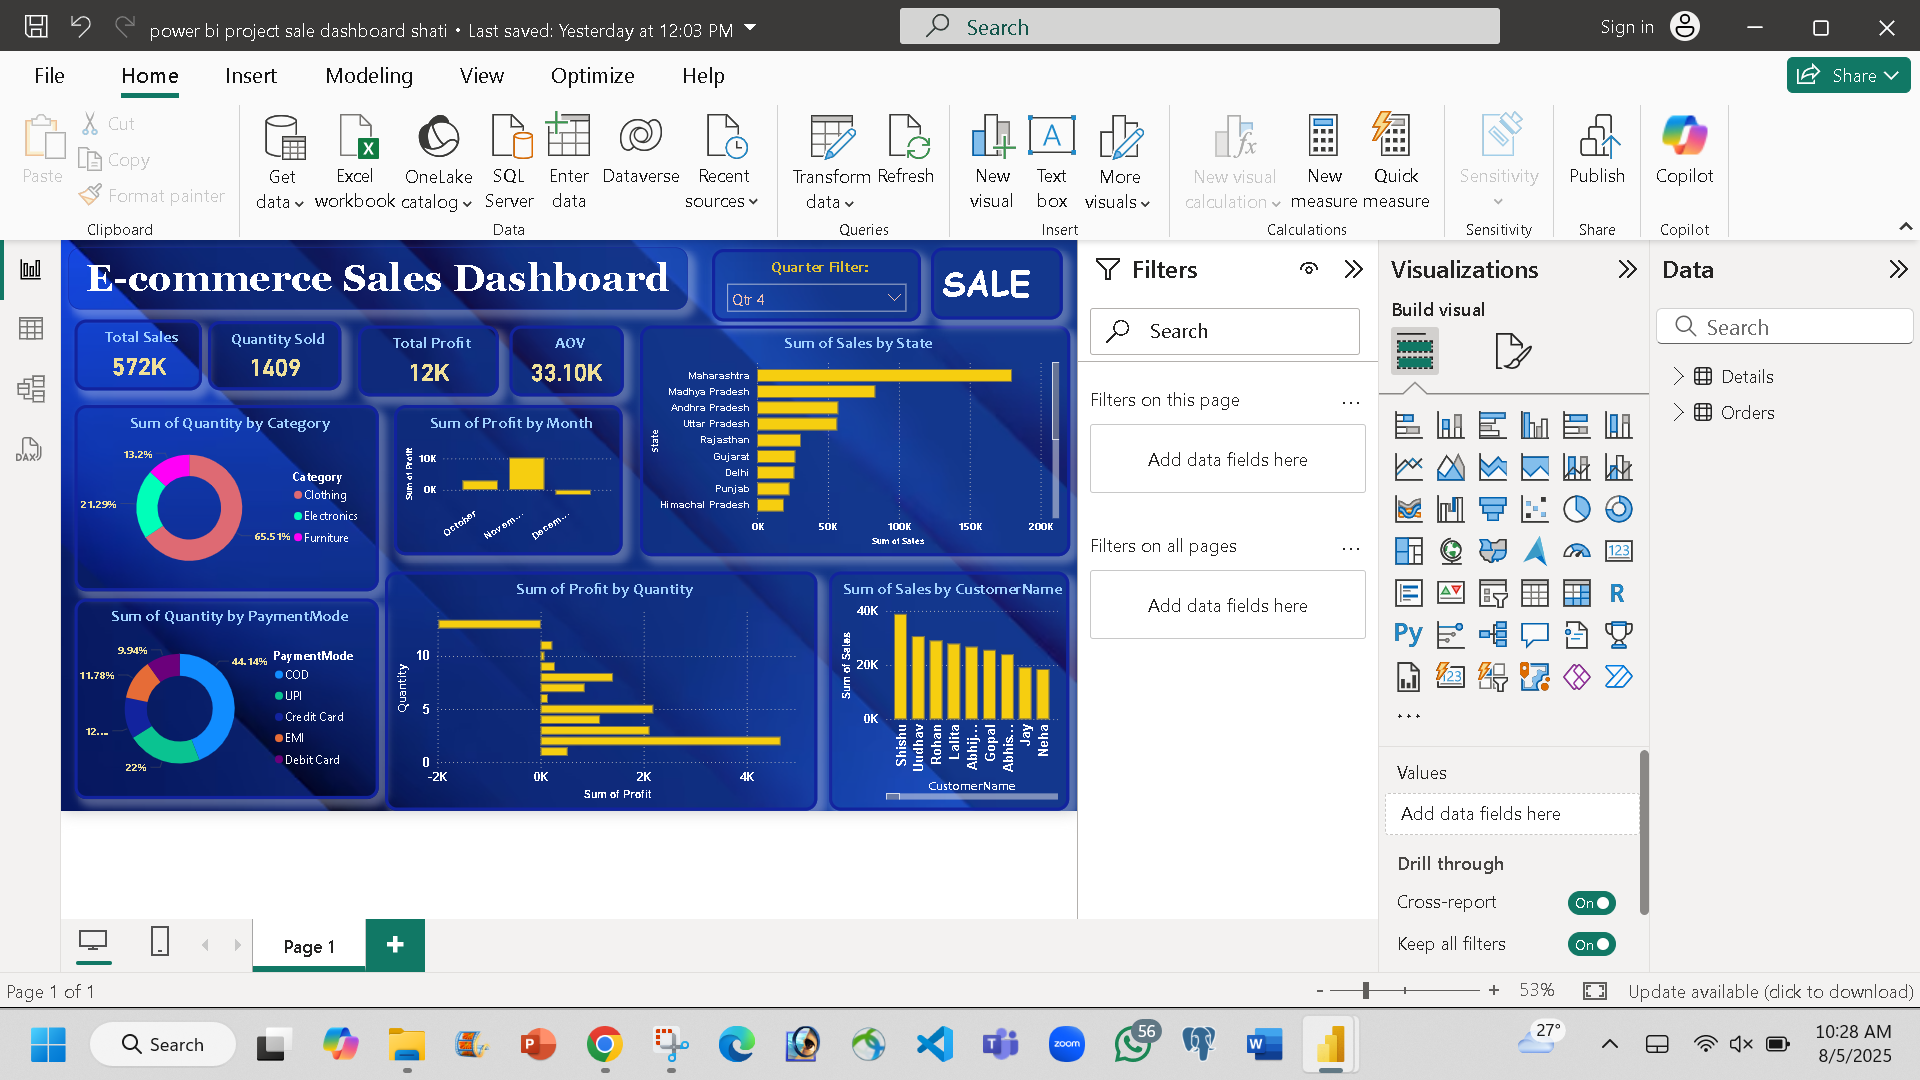

The dashboard page shown, as its layout file describes it:
{"tool":"powerbi","page":{"name":"Page 1","canvas":[1280,720],"ordinal":0},"visuals":[{"type":"textbox","box":[8.8,8.8,780.1,77.8],"z":0},{"type":"card","title":"Total Sales","fields":{"Values":["Details.Sales"]},"box":[16.5,100.2,160.5,89.5],"z":1000},{"type":"card","title":"Quantity Sold","fields":{"Values":["Details.Quantity"]},"box":[184.8,102.1,168.3,87.5],"z":2000},{"type":"card","title":"Total Profit","fields":{"Values":["Details.Profit"]},"box":[373.5,107,177,89.5],"z":3000},{"type":"card","title":"AOV","fields":{"Values":["Details.AOV"]},"box":[564.1,107,144,89.5],"z":4000},{"type":"slicer","title":"Quarter Filter:","fields":{"Values":["Orders.Order Date.Variation.Date Hierarchy.Quarter"]},"box":[820.9,10.7,263.6,91.4],"z":5000},{"type":"donutChart","fields":{"Y":["Details.Quantity"],"Category":["Details.Category"]},"box":[16.5,208.1,383.2,234.4],"z":6000},{"type":"donutChart","fields":{"Y":["Details.Quantity"],"Category":["Details.PaymentMode"]},"box":[16.5,452.3,383.2,252.9],"z":7000},{"type":"barChart","fields":{"Category":["Orders.State"],"Y":["Details.Sales"]},"box":[728.5,107,541.8,290.8],"z":8000},{"type":"columnChart","fields":{"Category":["Orders.Order Date.Variation.Date Hierarchy.Month"],"Y":["Details.Profit"]},"box":[420.2,208.1,287.9,189.7],"z":9000},{"type":"columnChart","fields":{"Category":["Orders.CustomerName"],"Y":["Details.Sales"]},"box":[967.8,418.2,302.5,301.5],"z":10000},{"type":"clusteredBarChart","fields":{"Category":["Details.Sub-Category","Details.Quantity"],"Y":["Details.Profit"]},"box":[408.5,418.2,544.7,301.5],"z":11000},{"type":"textbox","box":[1119.5,8.8,143,91.4],"z":11001}]}

Visuals, with their boxes on the page's 1280x720 design canvas (x1, y1, x2, y2). These are canvas units, not pixel positions in the 1920x1080 screenshot, which may show the page scaled, cropped or inside an application window:
textbox: (9,9,789,87)
"Total Sales" card: (16,100,177,190)
"Quantity Sold" card: (185,102,353,190)
"Total Profit" card: (374,107,550,196)
"AOV" card: (564,107,708,196)
"Quarter Filter:" slicer: (821,11,1084,102)
donutChart - Details.Quantity x Details.Category: (16,208,400,442)
donutChart - Details.Quantity x Details.PaymentMode: (16,452,400,705)
barChart - Orders.State x Details.Sales: (728,107,1270,398)
columnChart - Orders.Order Date.Variation.Date Hierarchy.Month x Details.Profit: (420,208,708,398)
columnChart - Orders.CustomerName x Details.Sales: (968,418,1270,720)
clusteredBarChart - Details.Sub-Category x Details.Quantity: (408,418,953,720)
textbox: (1120,9,1262,100)
